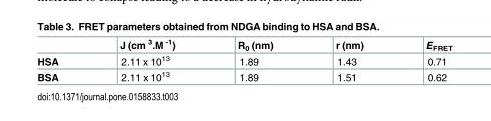table: (36, 37, 451, 82)
table column: (88, 37, 205, 82), (205, 37, 303, 82), (303, 37, 394, 82), (394, 37, 451, 82), (36, 37, 88, 82)
table column header: (36, 37, 451, 52)
table row: (36, 52, 451, 68), (36, 37, 451, 52), (36, 68, 451, 82)
